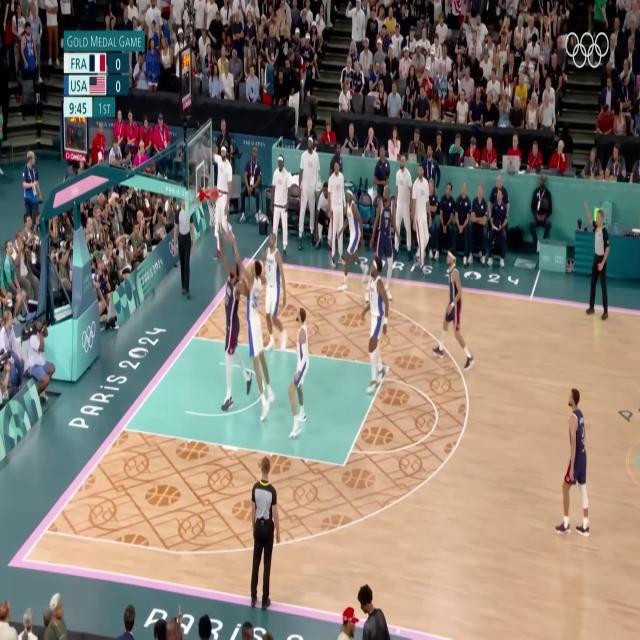player: (230, 241, 272, 421), (556, 388, 593, 544), (215, 234, 246, 416), (438, 241, 476, 372), (358, 257, 393, 397), (254, 225, 288, 355), (284, 302, 314, 443), (365, 183, 398, 299), (336, 185, 366, 297)
